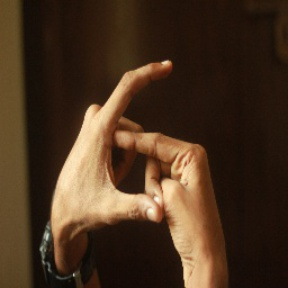E: (93, 45, 184, 228)
